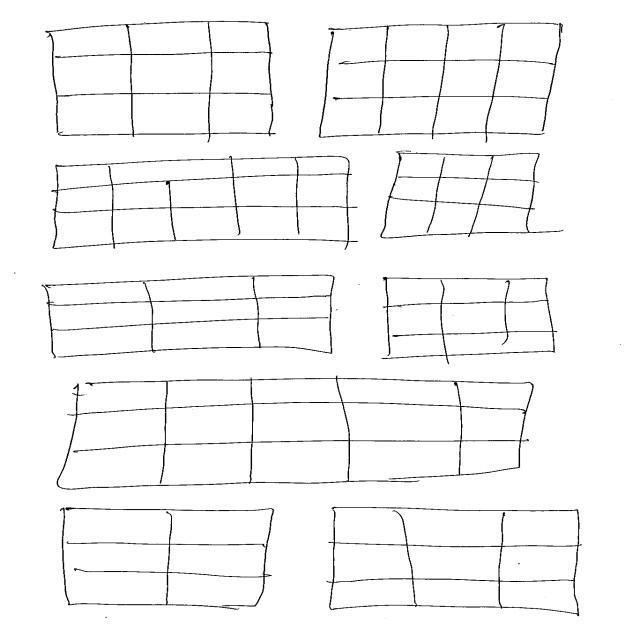table: (55, 378, 535, 491), (50, 155, 352, 251), (318, 22, 565, 139), (328, 507, 583, 619), (45, 20, 277, 138), (41, 274, 336, 360), (60, 507, 277, 610), (383, 276, 557, 362), (380, 150, 543, 240)
